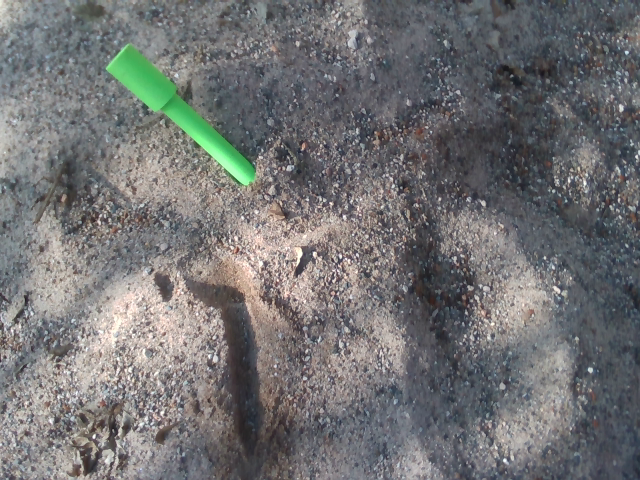Probe: (100, 38, 268, 202)
